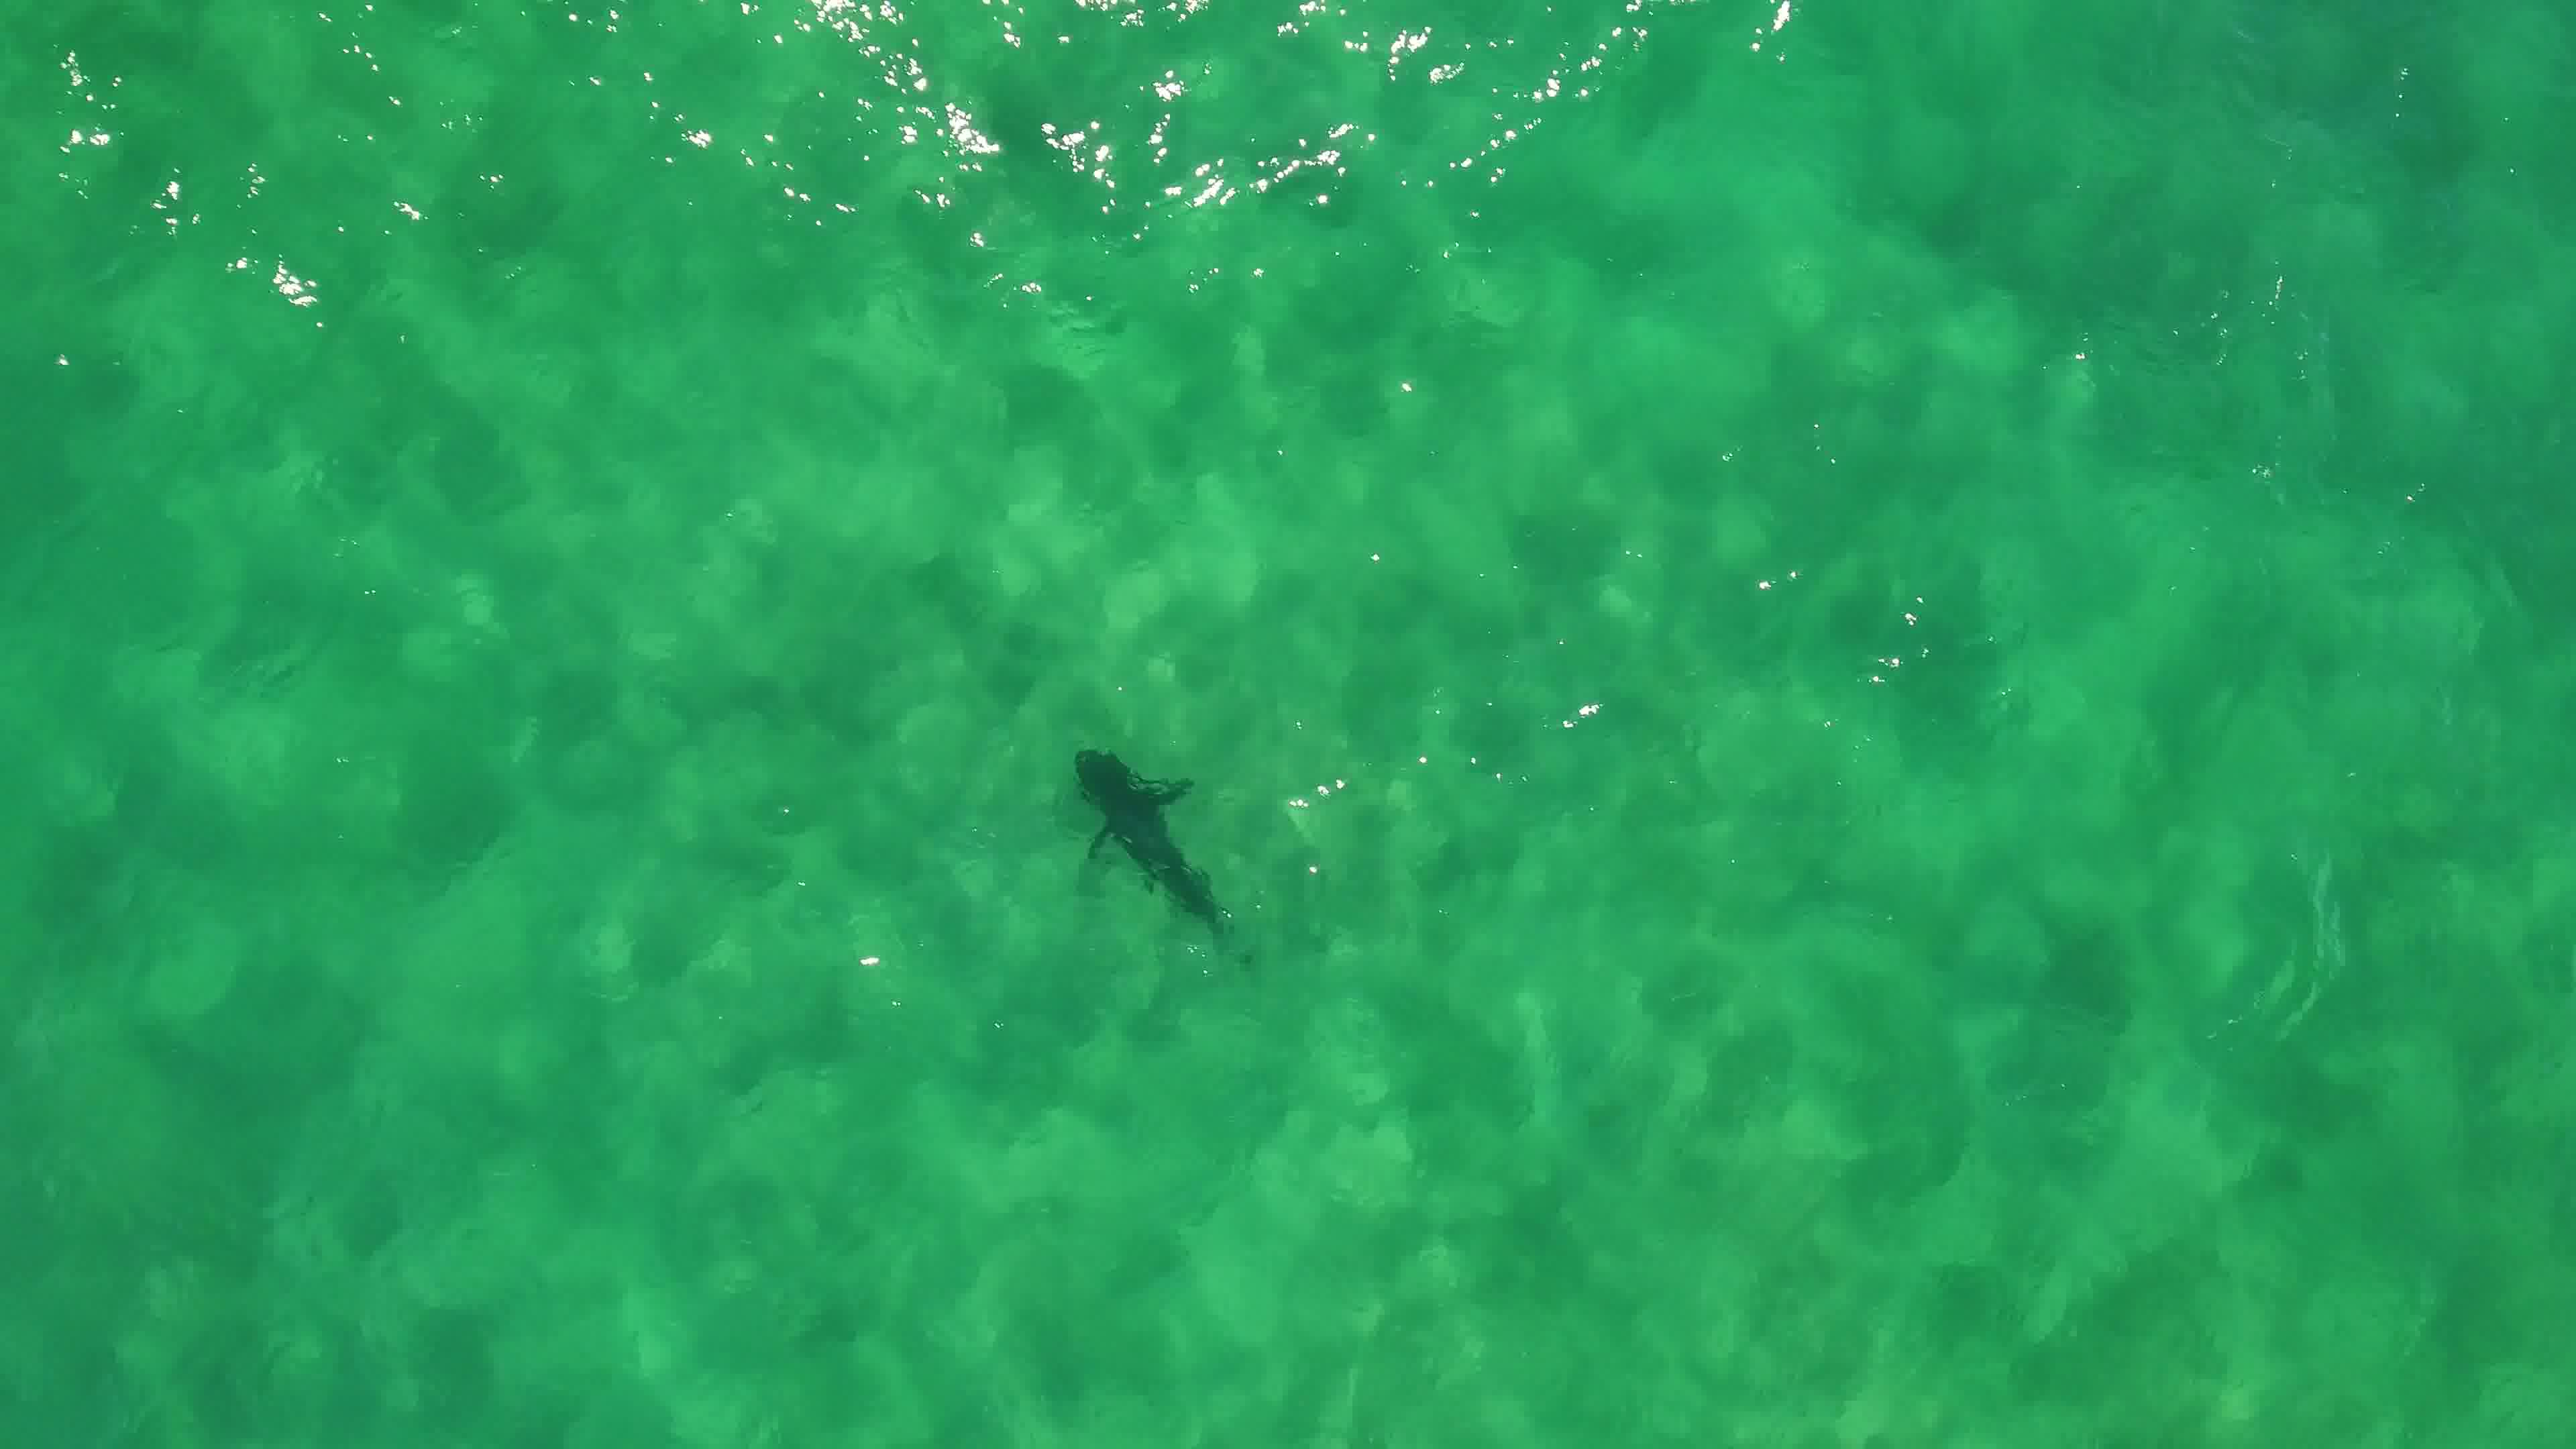shark: (1067, 738, 1231, 932)
